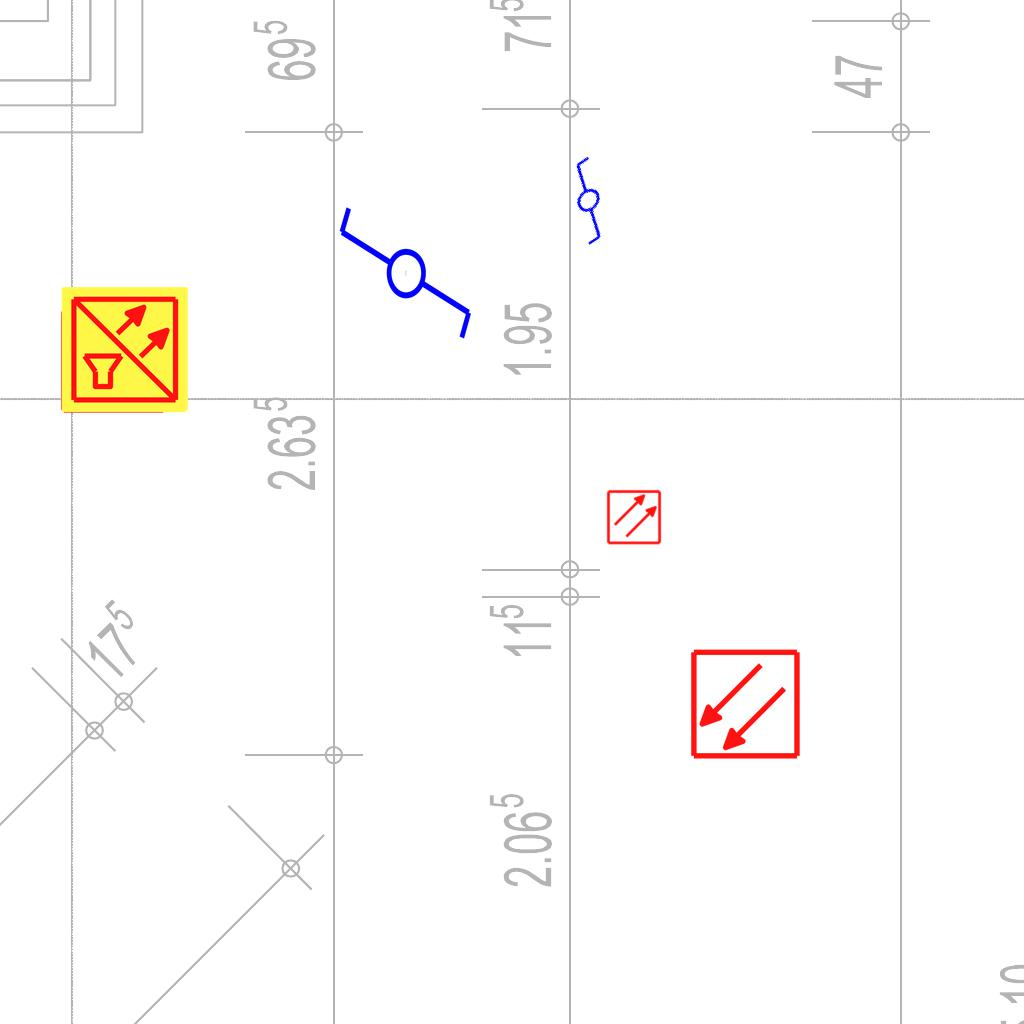OKW_Multisensormelder_(Kombination_optischer_Rauch-Kahlenmonoxid_Waerme-Melder): (59, 284, 191, 416)
RMO_Rauchmelder_optischer: (689, 648, 802, 761), (606, 489, 662, 545)
Wechselschalter: (332, 203, 476, 360), (539, 144, 645, 252)
